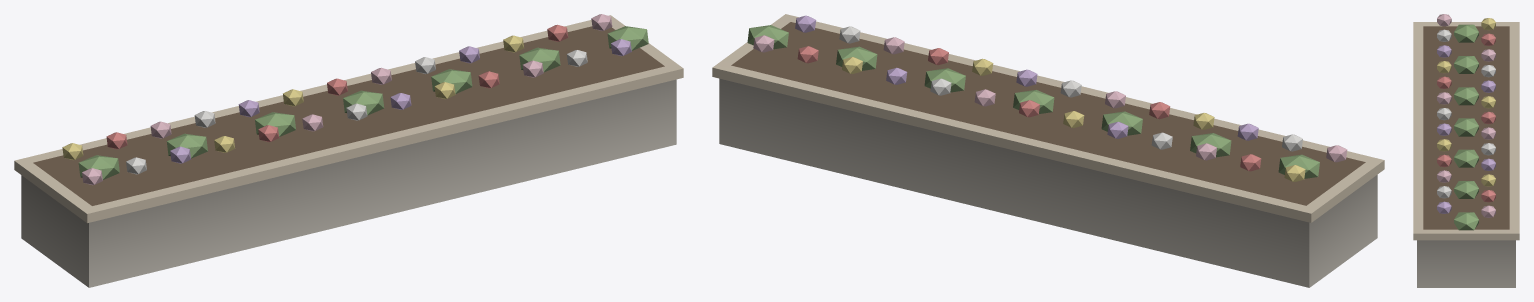
Rendered from roof_flowerbed_long__4.glb.
3 views of the same model, side by side, from view 1: azimuth 30°, elevation 25°; view 2: azimuth 150°, elevation 25°; view 3: azimuth 270°, elevation 25° (orthographic). The views are drawn at different scales.
Parts seen in each view (by area): view 1: roof.flowerbed_long__4; view 2: roof.flowerbed_long__4; view 3: roof.flowerbed_long__4.
Boxes of the visible parts, <box> form: roof.flowerbed_long__4: <box>14,14,683,287</box>; roof.flowerbed_long__4: <box>712,14,1384,287</box>; roof.flowerbed_long__4: <box>1413,14,1519,287</box>.
Size of the model in its own units: 4.06 by 0.656 by 0.86.
